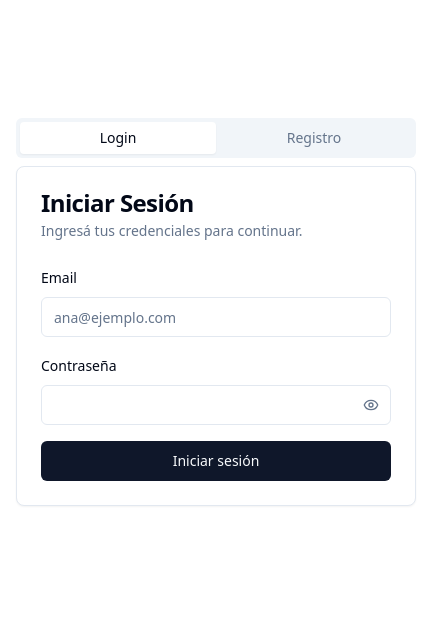
it: AuthPage [Componente] › Modo Registro › Casos 15: debería validar longitud mínima de password
Click the tab "Registro" at (314, 138), box [216,122,412,154]
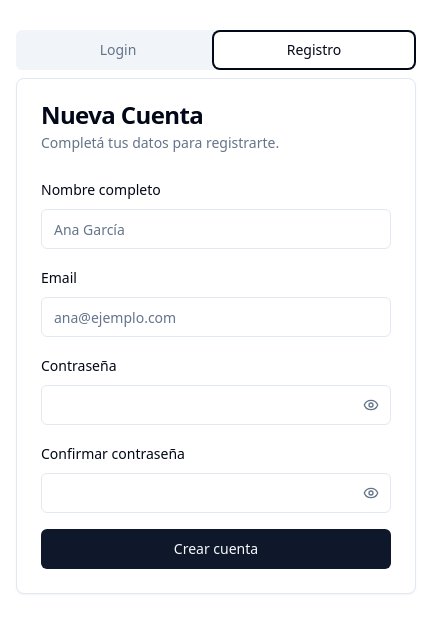
Type "short" into the password field labelled "Contraseña" at (216, 405), box [41,385,391,425]
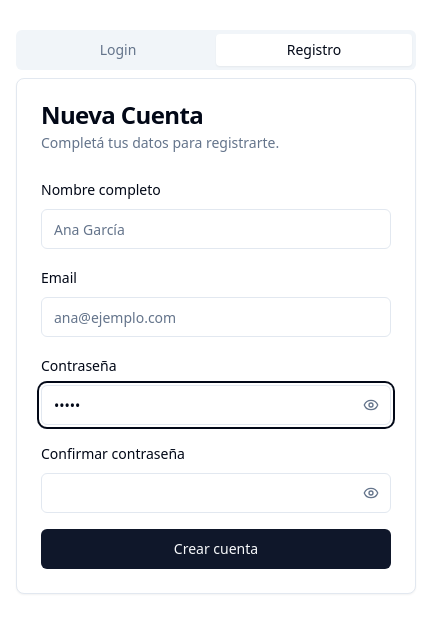
Press Tab
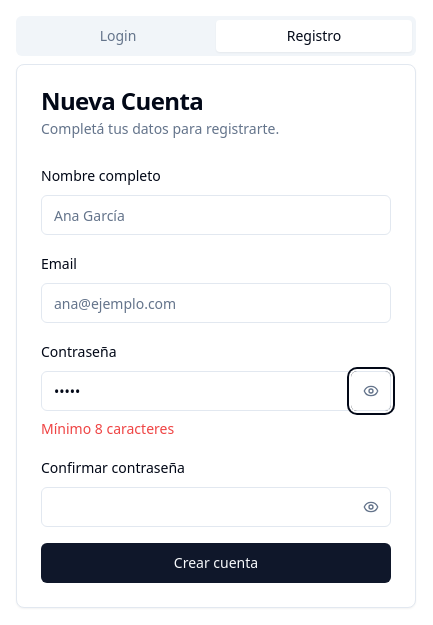
Check: the text "Mínimo 8 caracteres" is shown, box [41,419,174,438]
